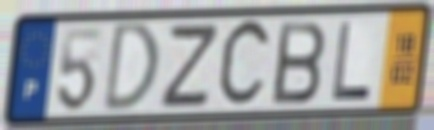5: (55, 24, 105, 113)
B: (270, 18, 328, 107)
C: (214, 14, 275, 115)
D: (100, 19, 162, 116)
L: (329, 20, 374, 104)
Z: (157, 21, 223, 110)
